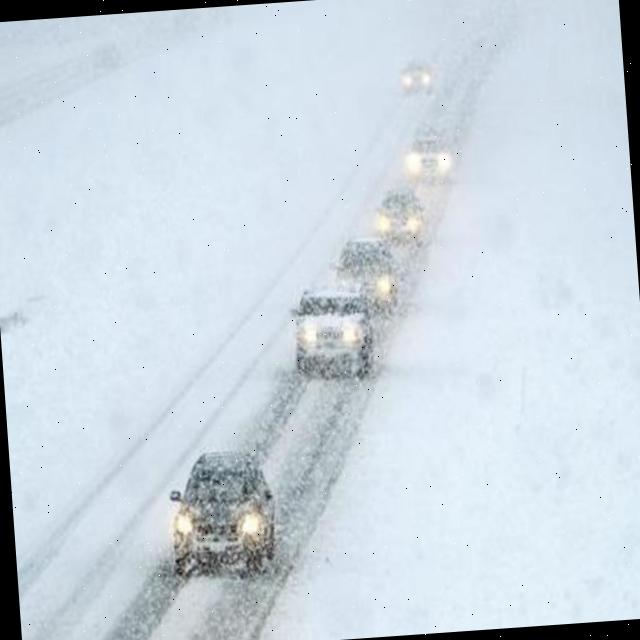car: (162, 450, 282, 584), (288, 282, 375, 376), (329, 232, 398, 316), (372, 188, 431, 255), (407, 129, 457, 188), (398, 58, 432, 96)
